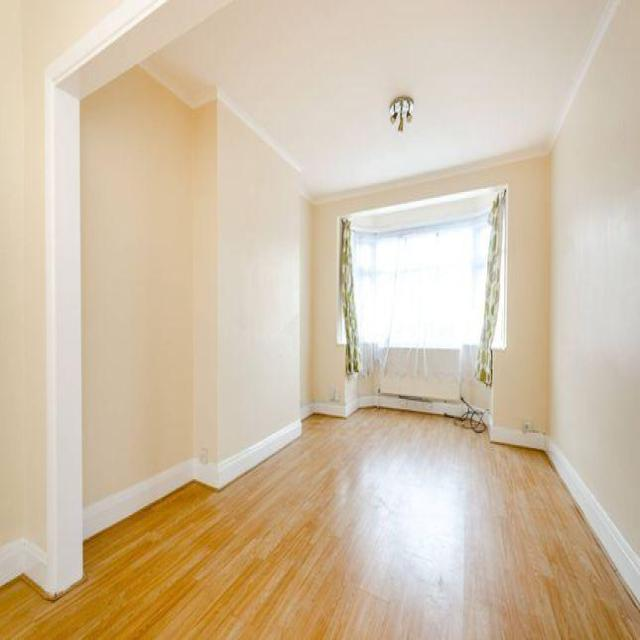Wall: (0, 409, 640, 639), (81, 68, 302, 533), (146, 0, 610, 195), (306, 156, 550, 447), (0, 0, 122, 554), (549, 0, 640, 556)
